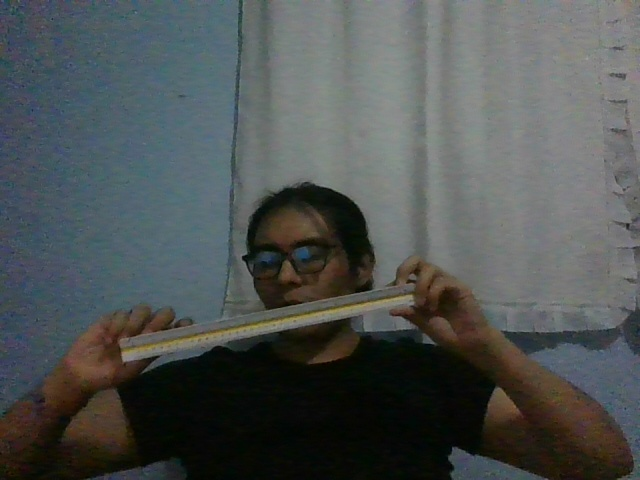regla: (118, 282, 415, 362)
